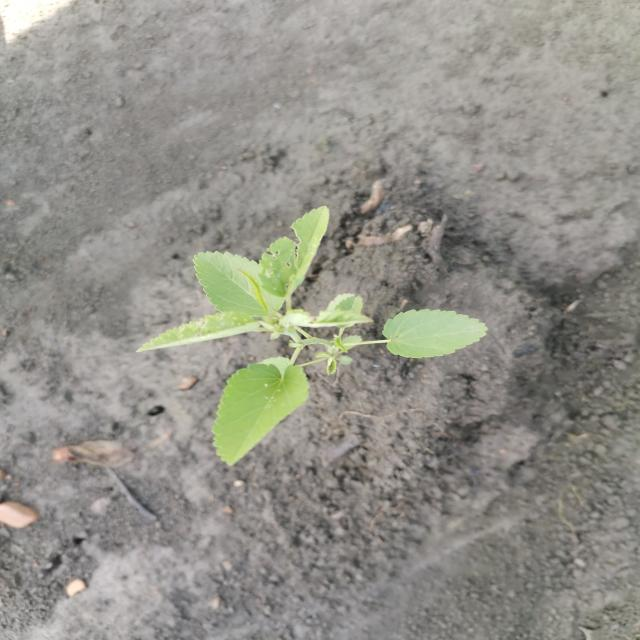PricklySida: (131, 204, 494, 472)
